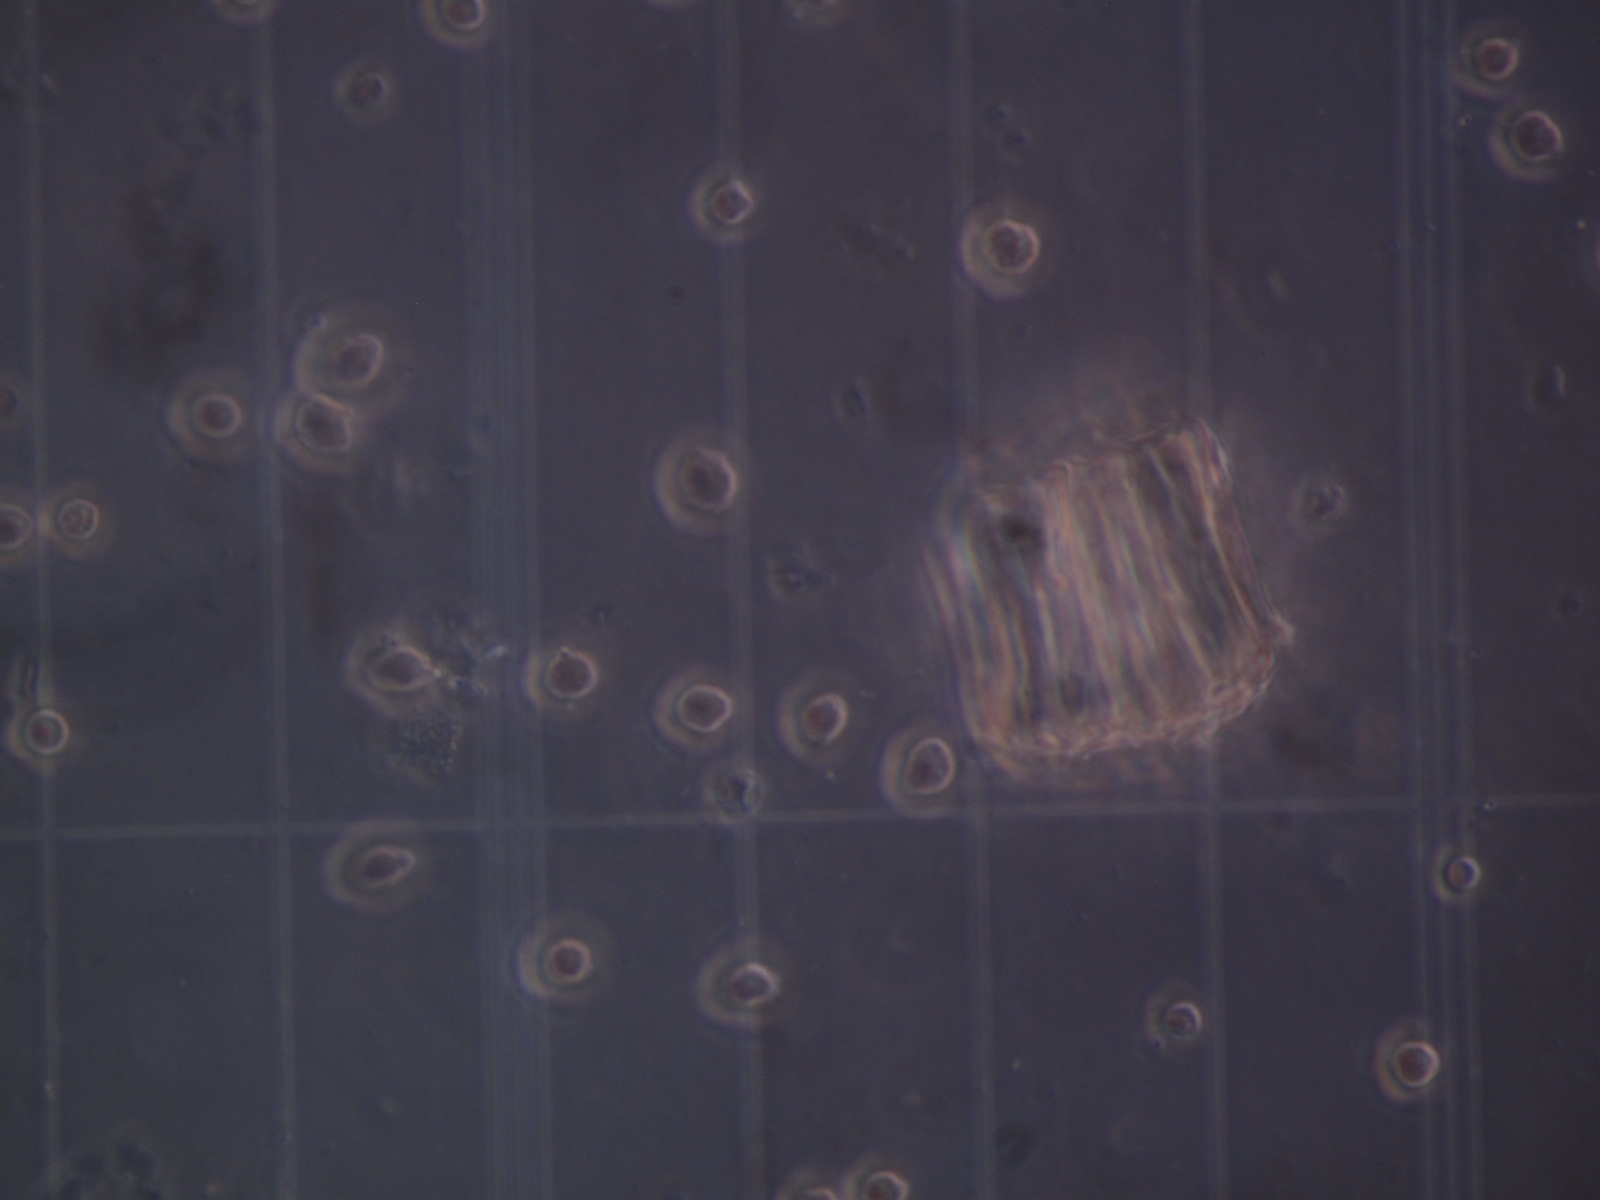hemo: (959, 197, 1060, 303), (321, 816, 428, 913), (650, 422, 740, 538), (517, 908, 615, 1006), (699, 939, 804, 1027), (166, 367, 253, 466), (294, 303, 384, 395), (882, 712, 957, 822), (774, 666, 850, 766), (653, 661, 732, 755), (271, 392, 354, 476), (349, 643, 440, 710), (39, 480, 113, 558), (1489, 105, 1562, 183), (1450, 21, 1519, 102), (1373, 1018, 1439, 1102), (689, 168, 757, 245), (5, 700, 67, 774), (524, 649, 597, 711), (1145, 978, 1204, 1051), (703, 755, 765, 821), (1286, 476, 1347, 539), (1, 482, 43, 568), (845, 1150, 916, 1200), (334, 62, 396, 118), (414, 1, 490, 45), (1432, 845, 1480, 904)
